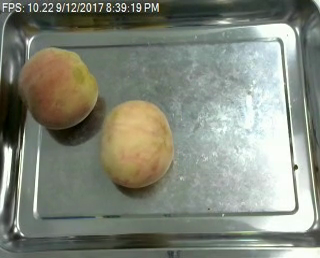Peach: (17, 46, 99, 130), (99, 99, 174, 188)
